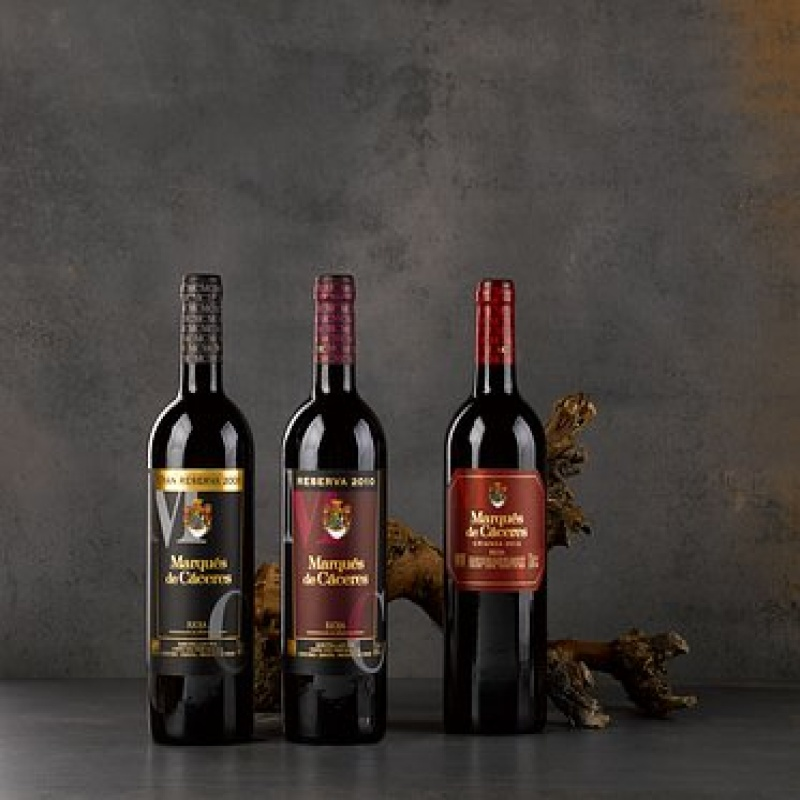wine: (278, 274, 392, 739), (141, 277, 252, 746), (438, 280, 552, 736)
